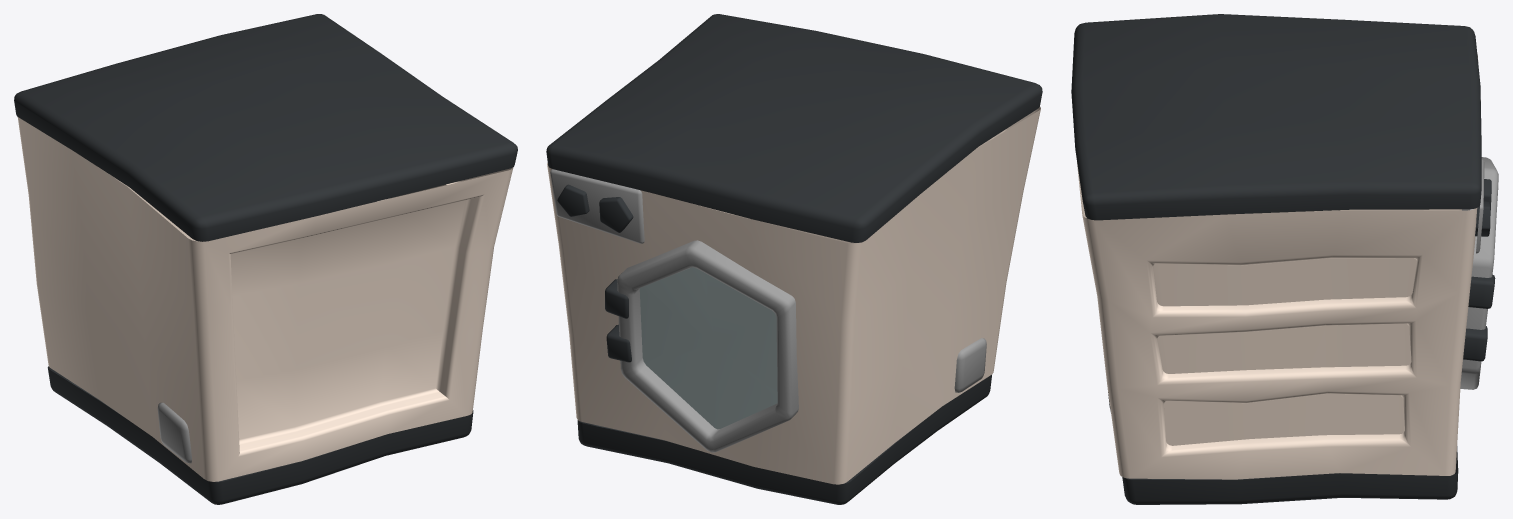
File: props_dryingMachine.fbx
The picture shows the model from 3 angles, left to right: view 1: azimuth 30°, elevation 25°; view 2: azimuth 150°, elevation 25°; view 3: azimuth 270°, elevation 25°; orthographic projection. The views are drawn at different scales.
Visible parts, largest first — view 1: dryingMachine; view 2: dryingMachine; view 3: dryingMachine.
Boxes of the visible parts, x1,y1,x2,y2 form: dryingMachine: (14,14,517,504); dryingMachine: (546,14,1042,504); dryingMachine: (1071,14,1498,504).
Size of the model in its own units: 1.66 by 1.72 by 1.54.
